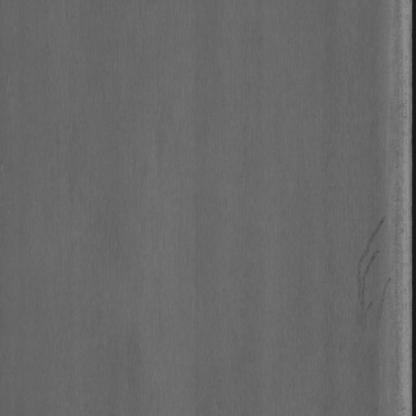water_spot: (351, 206, 393, 334)
